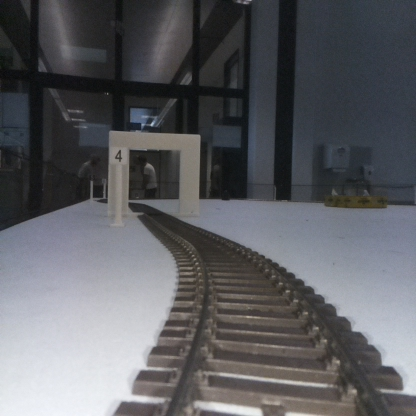white-info-4: (110, 147, 127, 225)
